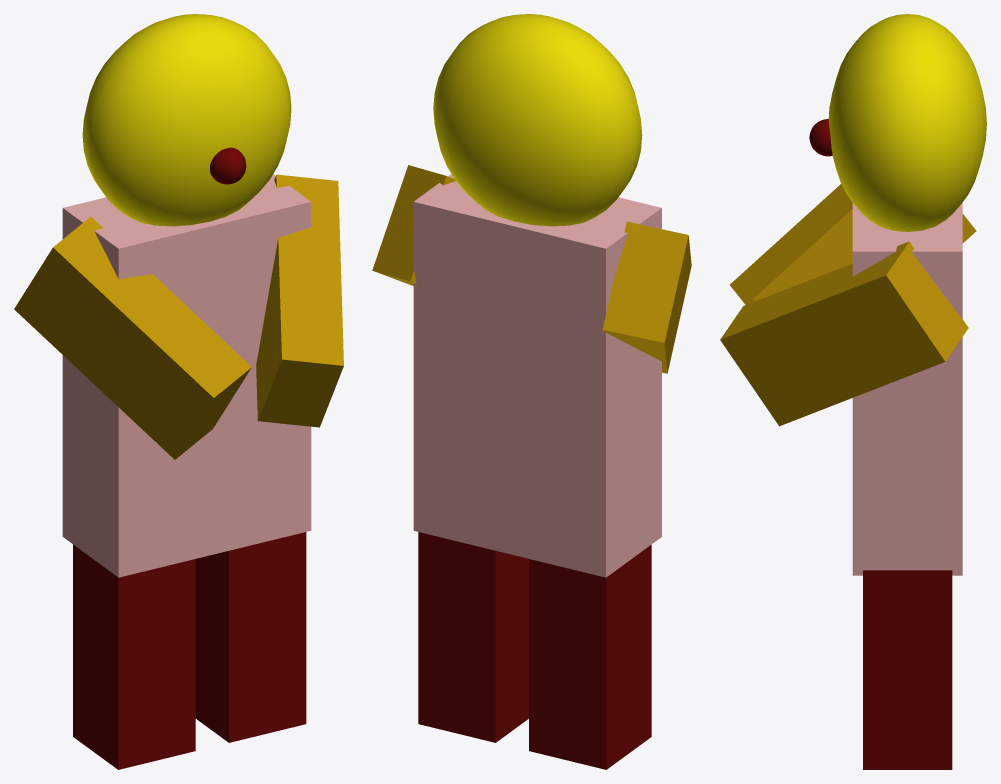
The model's file is player.fbx.
3 renders of one model, left to right at view 1: azimuth 30°, elevation 25°; view 2: azimuth 150°, elevation 25°; view 3: azimuth 270°, elevation 25°, orthographic.
Parts seen in each view (by area): view 1: pSphere7; view 2: pSphere7; view 3: pSphere7.
Boxes of the visible parts, x1,y1,x2,y2 form: pSphere7: (14,14,343,769); pSphere7: (372,14,691,769); pSphere7: (720,14,986,769).
Size of the model in its own units: 1.53 by 3.51 by 1.21.
